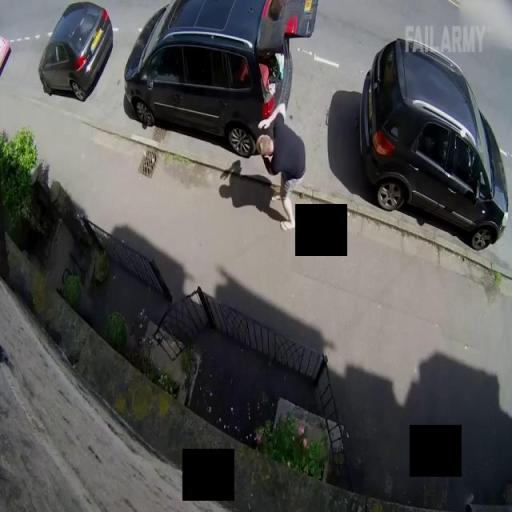Fall: (255, 101, 308, 229)
